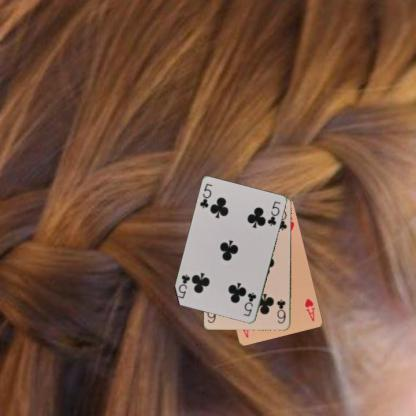5c: (241, 290, 258, 318), (198, 181, 214, 210)
6c: (274, 297, 286, 325)
Ah: (302, 296, 317, 322)
